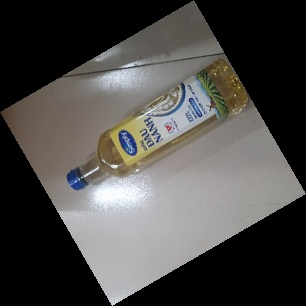Simply: (65, 56, 252, 190)
